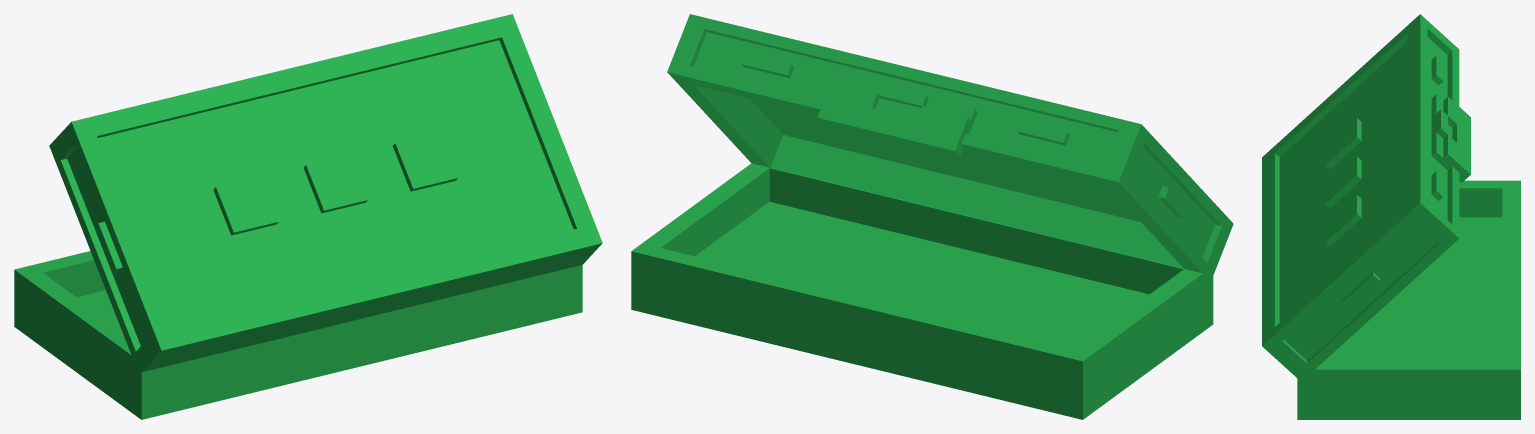
The model's file is PencilBox.fbx.
3 views of the same model, side by side, from view 1: azimuth 30°, elevation 25°; view 2: azimuth 150°, elevation 25°; view 3: azimuth 270°, elevation 25° (orthographic). The views are drawn at different scales.
Visible parts, largest first — view 1: Cube; view 2: Cube; view 3: Cube.
Boxes of the visible parts, x1,y1,x2,y2 form: Cube: (14, 14, 602, 419); Cube: (631, 14, 1233, 419); Cube: (1262, 14, 1520, 419).
Bounding box in the file's own units: 393 × 680 × 364.
Materials: 1 (1 with a texture image).
